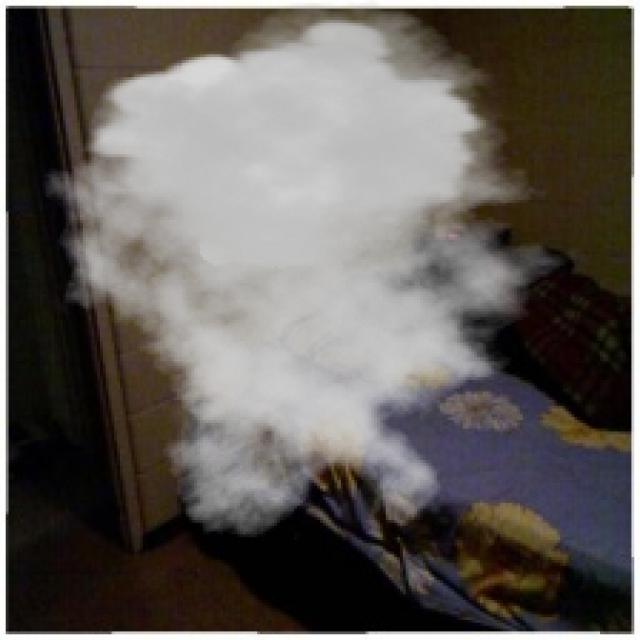smoke: (34, 0, 592, 540)
